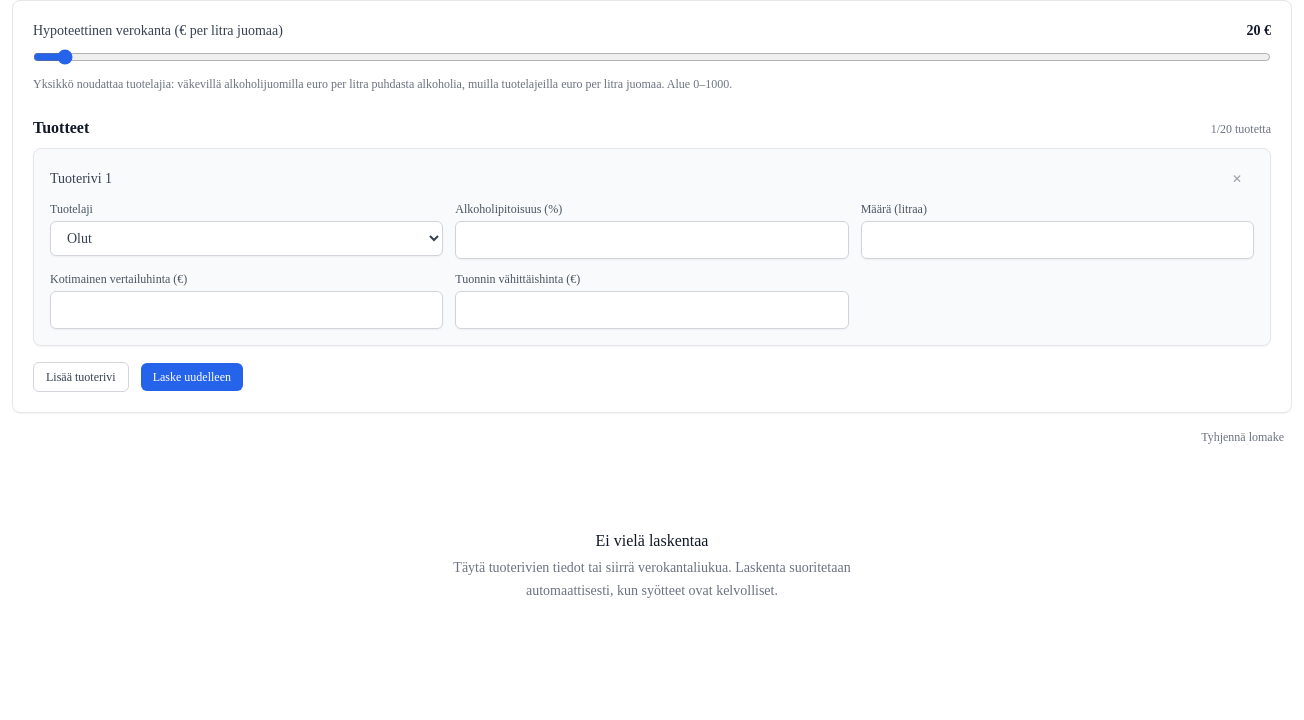
it: WhatIfView form pass (task 4.7) › shows the price format message for a malformed price value
Type "12,345" into the field labelled "Kotimainen vertailuhinta (€)" at (247, 310), box [50,291,443,329]
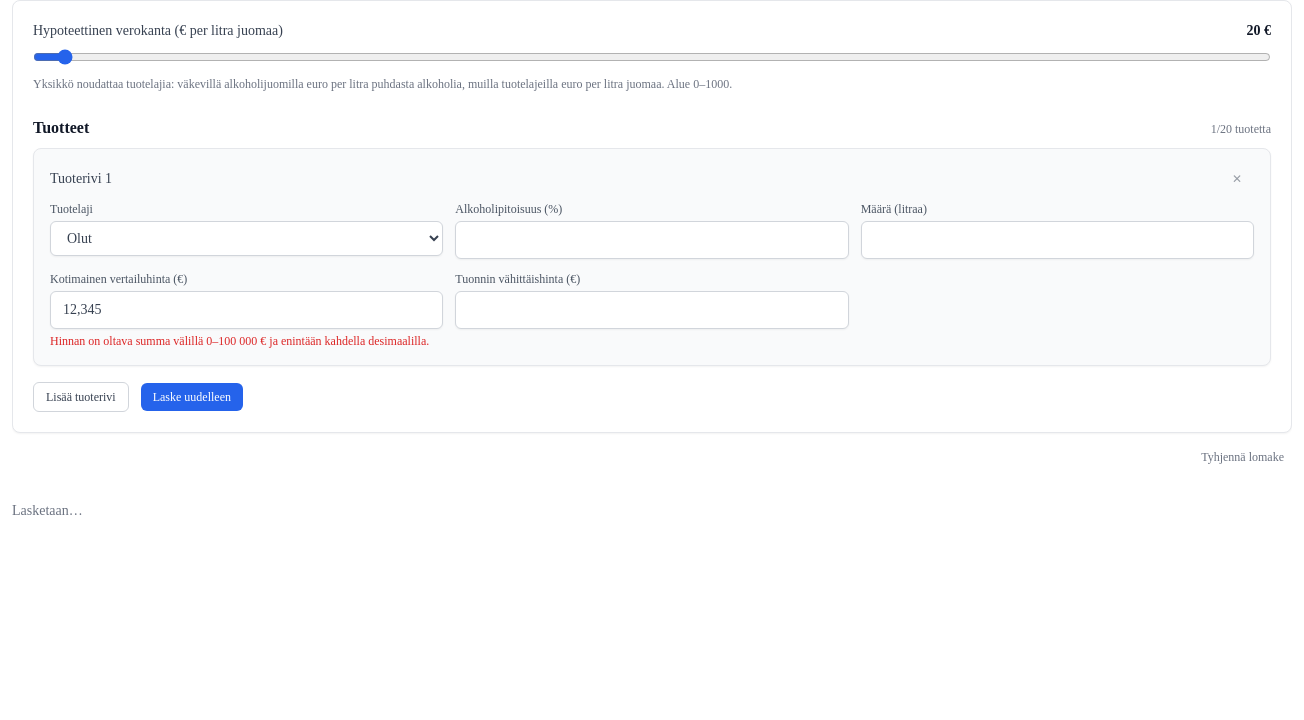
Result: the text "Hinnan on oltava summa välillä 0–100 000 € ja enintään kahdella desimaalilla." is shown at [50,333,443,349]
